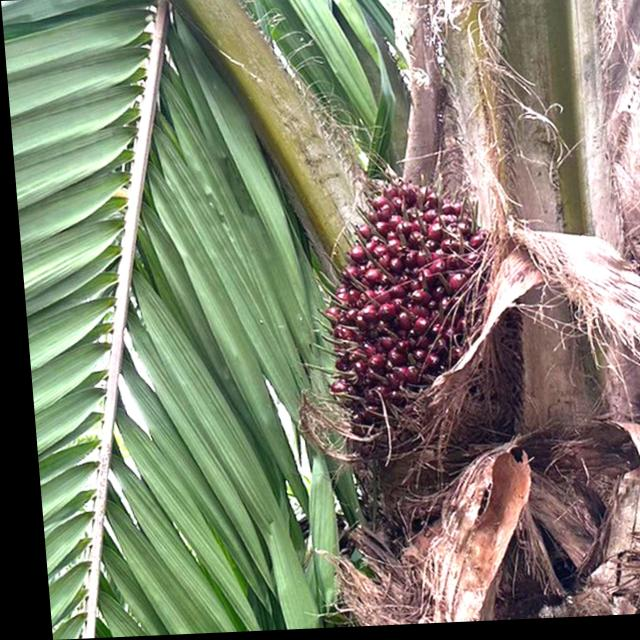ripe: (291, 161, 519, 476)
